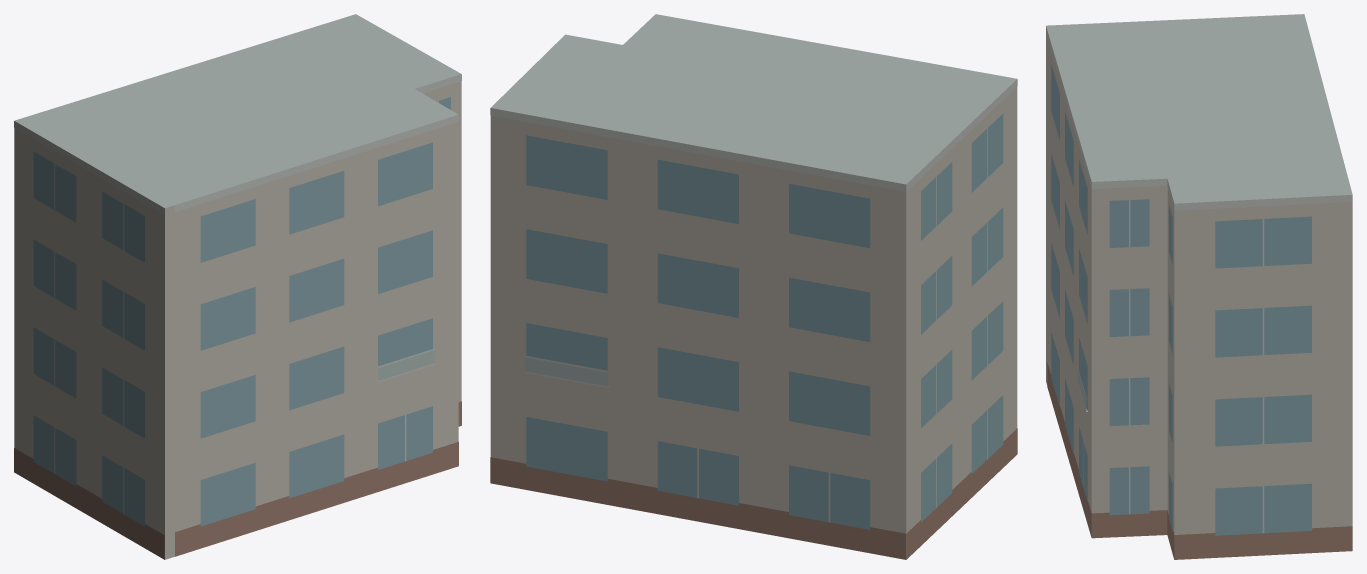
The model's file is survey-upis-32933774.glb.
The picture shows the model from 3 angles, left to right: view 1: azimuth 30°, elevation 25°; view 2: azimuth 150°, elevation 25°; view 3: azimuth 270°, elevation 25°; orthographic projection. The views are drawn at different scales.
Parts seen in each view (by area): view 1: survey-upis-32933774.tmp; view 2: survey-upis-32933774.tmp; view 3: survey-upis-32933774.tmp.
Boxes of the visible parts, x1,y1,x2,y2 form: survey-upis-32933774.tmp: [14, 14, 461, 559]; survey-upis-32933774.tmp: [490, 14, 1017, 559]; survey-upis-32933774.tmp: [1046, 14, 1352, 559].
Bounding box in the file's own units: 13.94 × 12.2 × 9.52.
